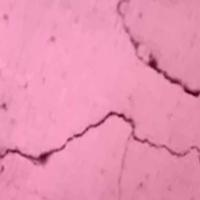crack: (0, 32, 199, 187)
